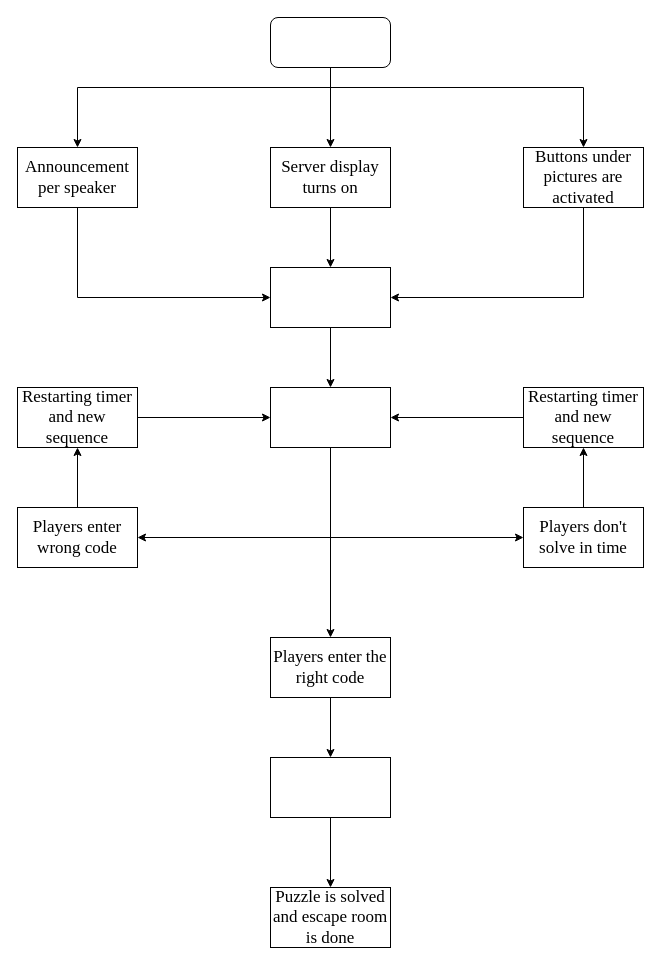
The diagram is 661 pixels wide and 965 high, and some of its shapes have lost their labels. The shapes that lost their labels are listed below. From the top down, each one's centre as x and y in pixels, then its label:
At pixel 330 42: "Start".
At pixel 330 297: "Sequence and timer start".
At pixel 330 417: "Players need to solve the puzzle".
At pixel 330 787: "Server is unlocked and restarts".
